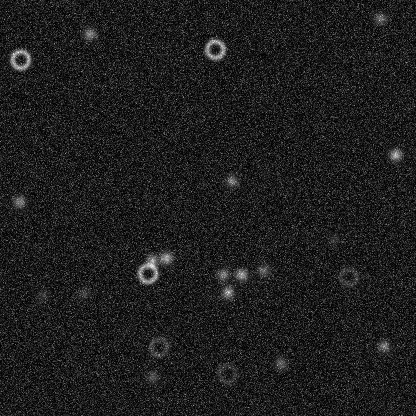Ring: (135, 261, 159, 285), (215, 361, 239, 385), (8, 47, 32, 71), (336, 264, 360, 288), (146, 334, 170, 358), (202, 37, 226, 61)
Spot: (11, 193, 27, 209), (34, 287, 50, 303), (81, 25, 97, 41), (214, 266, 230, 282), (255, 262, 271, 278), (387, 146, 403, 162), (144, 252, 160, 268), (272, 355, 288, 371), (233, 266, 249, 282), (223, 172, 239, 188), (372, 10, 388, 26), (324, 231, 340, 247), (375, 338, 391, 354), (144, 369, 160, 385), (75, 284, 91, 300), (219, 284, 235, 300), (158, 249, 174, 265)
